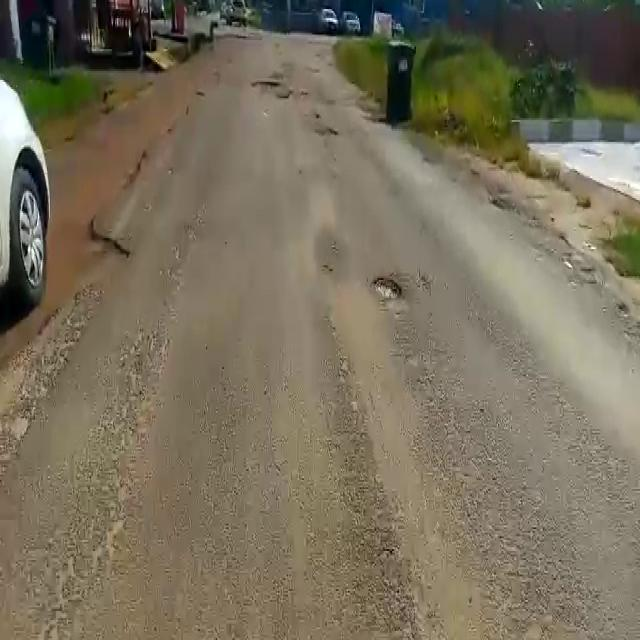Pothole: (365, 271, 409, 302), (316, 123, 343, 137)
